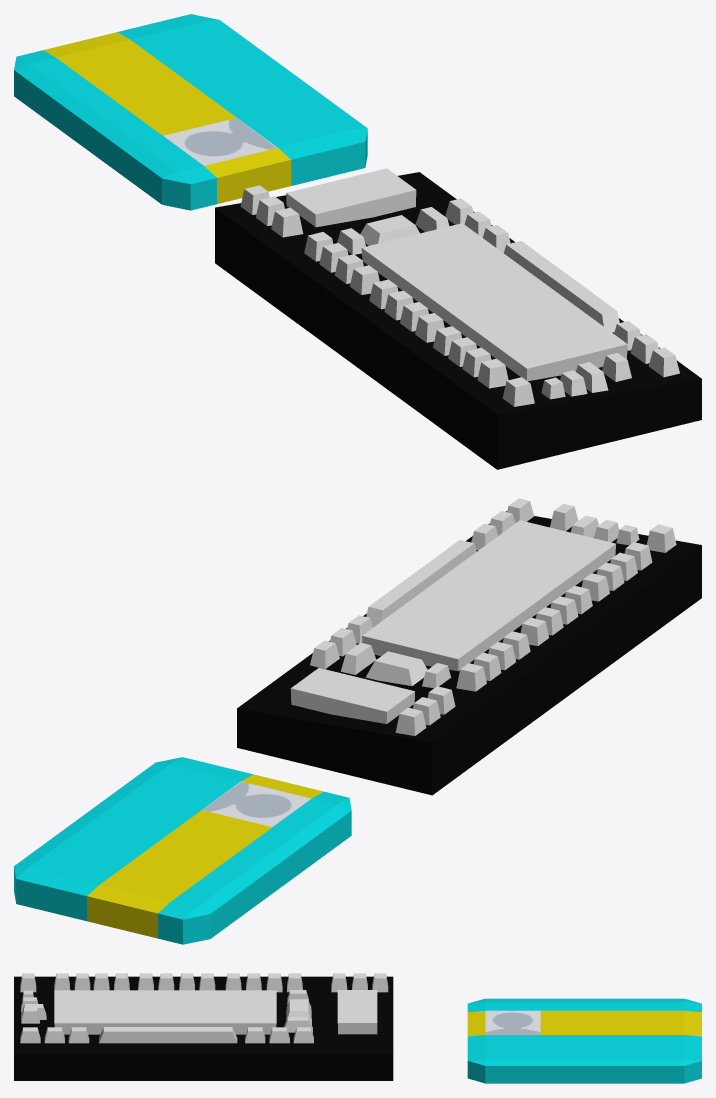
The picture shows the model from 3 angles, top to bottom: view 1: azimuth 30°, elevation 25°; view 2: azimuth 150°, elevation 25°; view 3: azimuth 270°, elevation 25°; orthographic projection. The views are drawn at different scales.
Visible parts, largest first — view 1: Cube.034, Cube.028, Cube; view 2: Cube.028, Cube.034, Cube; view 3: Cube, Cube.028, Cube.034.
Part boxes in pixels (x1,y1,x2,y2): Cube.034: (14,14,367,210); Cube.028: (240,168,679,406); Cube: (215,172,701,469); Cube.028: (290,498,676,735); Cube.034: (14,757,351,944); Cube: (237,511,701,795); Cube: (14,976,393,1080); Cube.028: (20,973,388,1043); Cube.034: (467,998,701,1083).
Bounding box in the file's own units: 147 × 45.65 × 588.
Materials: 4 (1 with a texture image).
